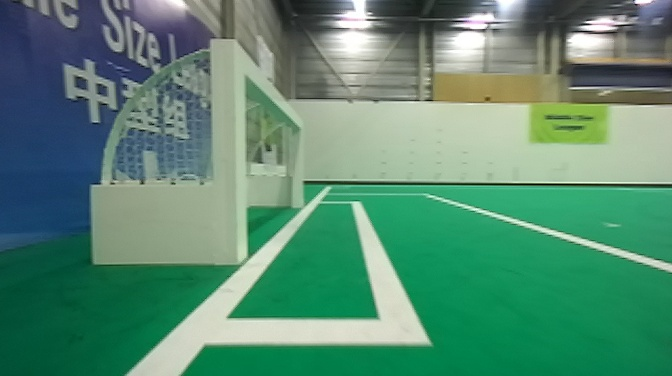goalpost: (203, 30, 254, 271), (279, 102, 309, 220)
